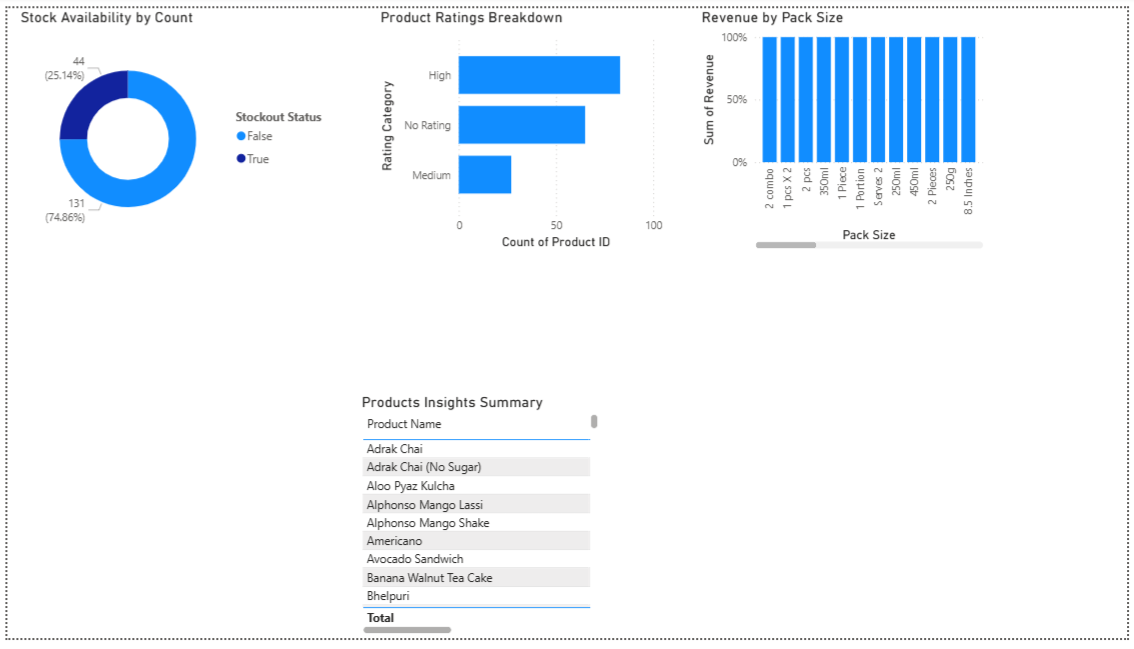

The page's visual inventory and layout, read from the dashboard file:
{"tool":"powerbi","page":{"name":"Page 3","canvas":[1280,720],"ordinal":2},"visuals":[{"type":"donutChart","title":"Stock Availability by Count","fields":{"Category":["Zepto Cafe.Stockout Status"],"Y":["CountNonNull(Zepto Cafe.Product ID)"]},"box":[10,0,370,280],"z":0},{"type":"clusteredBarChart","title":"Product Ratings Breakdown","fields":{"Category":["Zepto Cafe.Rating Category"],"Y":["CountNonNull(Zepto Cafe.Product ID)"]},"box":[422,0,332,280],"z":1000},{"type":"hundredPercentStackedColumnChart","title":"Revenue by Pack Size","fields":{"Category":["Zepto Cafe.Pack Size"],"Y":["Sum(Zepto Cafe.Revenue)"]},"box":[788,0,332,280],"z":2000},{"type":"tableEx","title":"Products Insights Summary","fields":{"Values":["Zepto Cafe.Product Name","Zepto Cafe.Rating Category","Sum(Zepto Cafe.Revenue)","Sum(Zepto Cafe.Profit)","Zepto Cafe.Profit Margin %"]},"box":[400,440,280,280],"z":3000}]}

Visuals, with their boxes in screenshot pixels (x1, y1, x2, y2), scaled from the page's 1280x720 canvas onto the 1134x649 screenshot:
"Stock Availability by Count" donutChart: <region>9, 0, 337, 252</region>
"Product Ratings Breakdown" clusteredBarChart: <region>374, 0, 668, 252</region>
"Revenue by Pack Size" hundredPercentStackedColumnChart: <region>698, 0, 992, 252</region>
"Products Insights Summary" tableEx: <region>354, 397, 602, 648</region>
